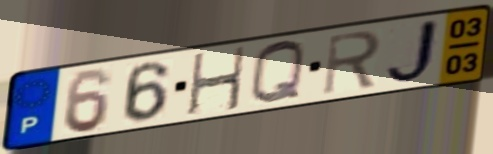6: (60, 66, 116, 135), (121, 58, 175, 126)
H: (186, 44, 249, 119)
J: (382, 16, 443, 87)
Q: (246, 39, 308, 108)
R: (320, 28, 384, 98)
